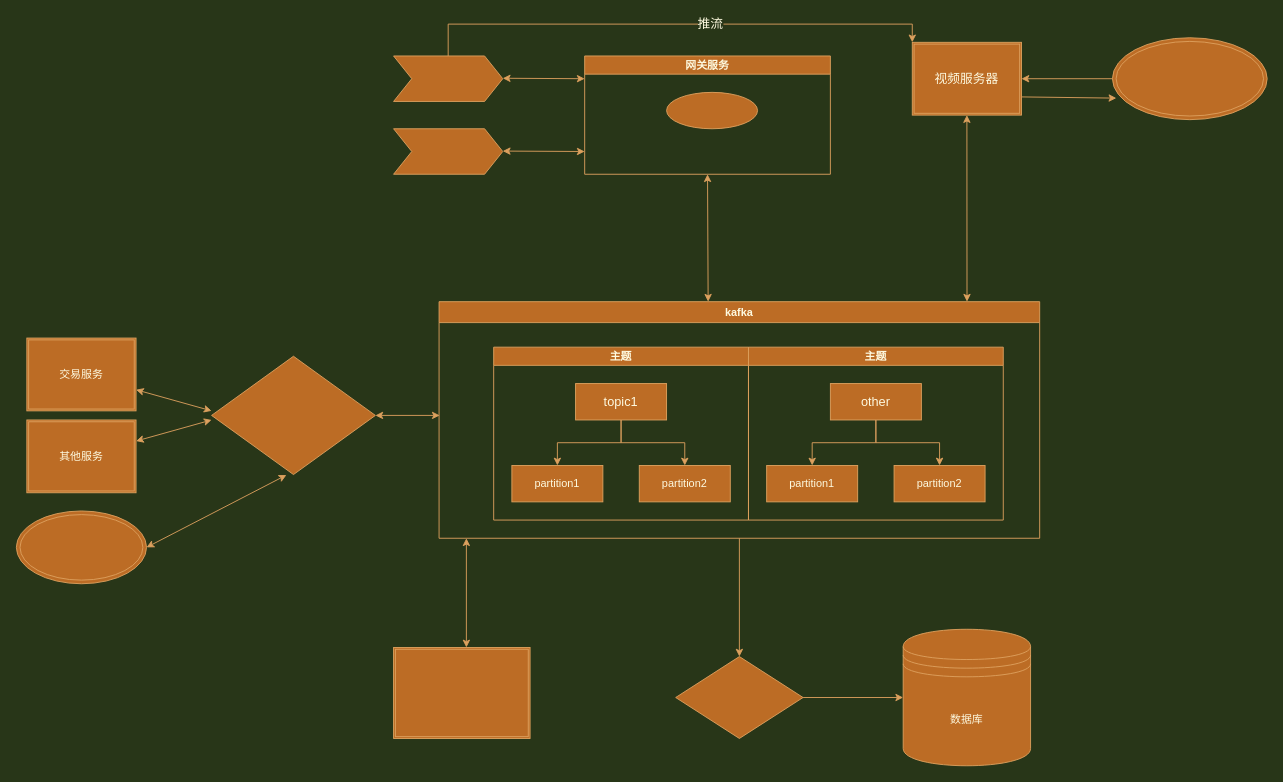
Image size: 1283x782. Some labels were removed from this diagram. The shapes that lost their labels are listed below. From the top down, each one's centre as x and y in pixels, then its label:
[448,78]: 车载端
[1189,78]: 视频客户端
[712,110]: 转发/订阅
[448,151]: POS机器
[293,415]: 转换服务(过渡)
[461,692]: 调度服务
[739,697]: 操作数据库服务
